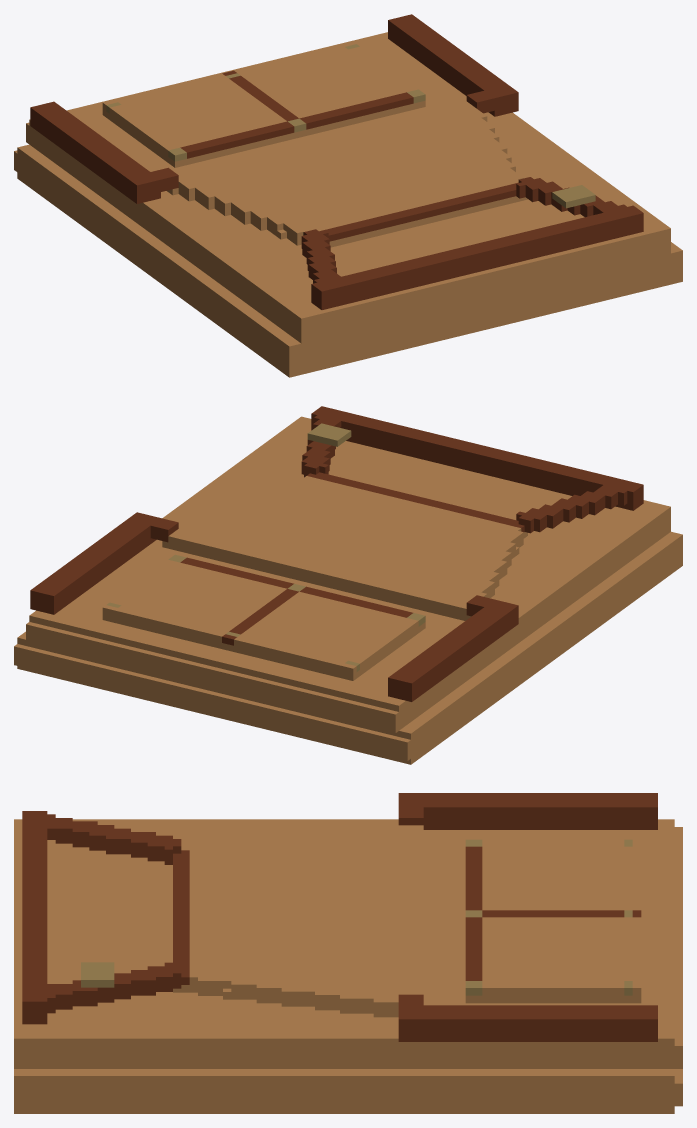
File: apron_leather.glb
3 views of the same model, one above another, from view 1: azimuth 30°, elevation 25°; view 2: azimuth 150°, elevation 25°; view 3: azimuth 270°, elevation 25° (orthographic). The views are drawn at different scales.
Visible parts, largest first — view 1: apron_leather:compound; view 2: apron_leather:compound; view 3: apron_leather:compound.
Boxes of the visible parts, bbox=[...] form: apron_leather:compound: bbox=[14, 14, 682, 377]; apron_leather:compound: bbox=[14, 406, 682, 764]; apron_leather:compound: bbox=[14, 793, 682, 1113].
Size of the model in its own units: 0.264 by 0.052 by 0.32.
